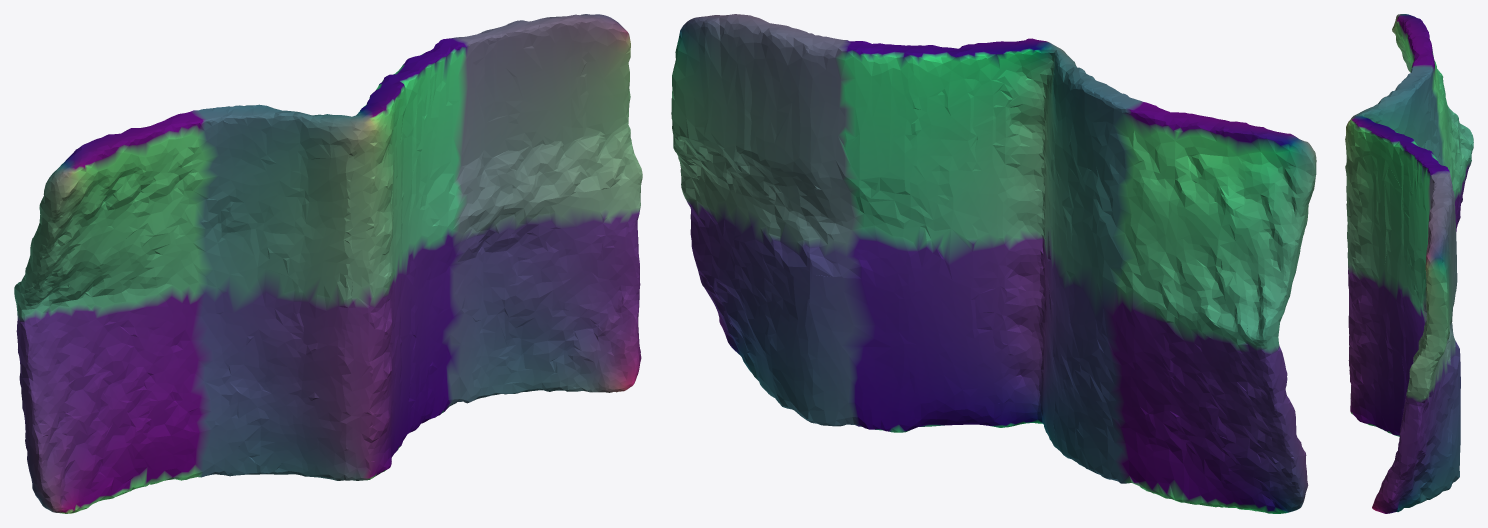
File: paper-19.off.obj
3 renders of one model, left to right at view 1: azimuth 30°, elevation 25°; view 2: azimuth 150°, elevation 25°; view 3: azimuth 270°, elevation 25°, orthographic. The views are drawn at different scales.
Bounding box in the file's own units: 1.57 × 0.916 × 0.3573.
